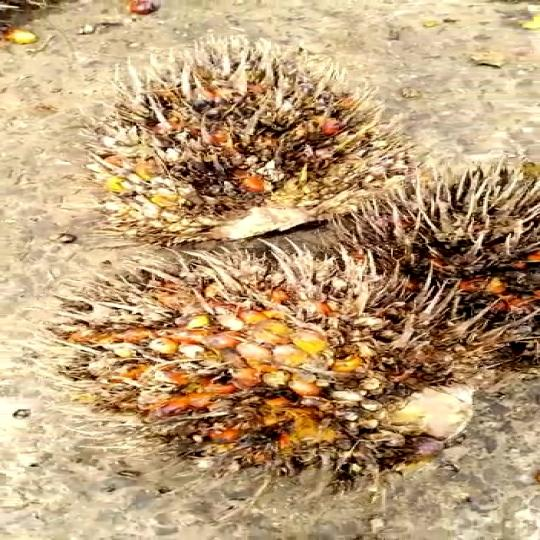terlalu masak: (62, 263, 512, 473), (92, 52, 386, 259)
